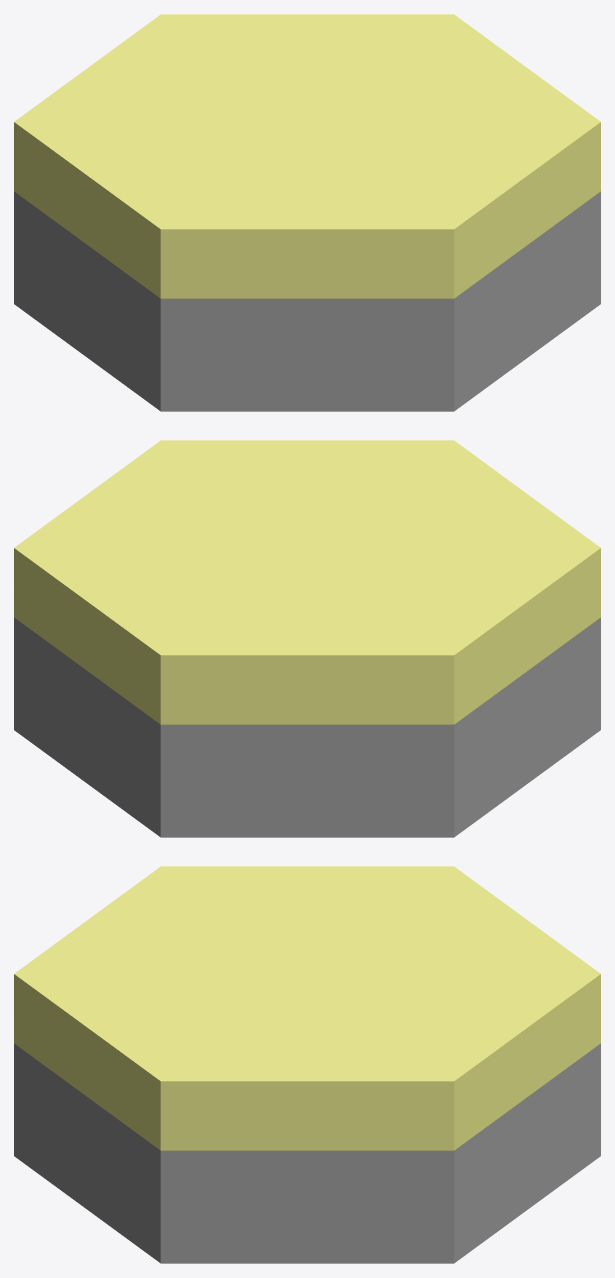
Rendered from RPG_Tiles_Hex_Stone_Covered_01.FBX.
The picture shows the model from 3 angles, top to bottom: view 1: azimuth 30°, elevation 25°; view 2: azimuth 150°, elevation 25°; view 3: azimuth 270°, elevation 25°; orthographic projection.
Visible parts, largest first — view 1: RPG_Tiles_Hex_Stone_Covered_01; view 2: RPG_Tiles_Hex_Stone_Covered_01; view 3: RPG_Tiles_Hex_Stone_Covered_01.
Boxes of the visible parts, x1,y1,x2,y2 form: RPG_Tiles_Hex_Stone_Covered_01: (14, 14, 600, 411); RPG_Tiles_Hex_Stone_Covered_01: (14, 440, 600, 837); RPG_Tiles_Hex_Stone_Covered_01: (14, 866, 600, 1263).
Bounding box in the file's own units: 3000 × 1186 × 3464.
